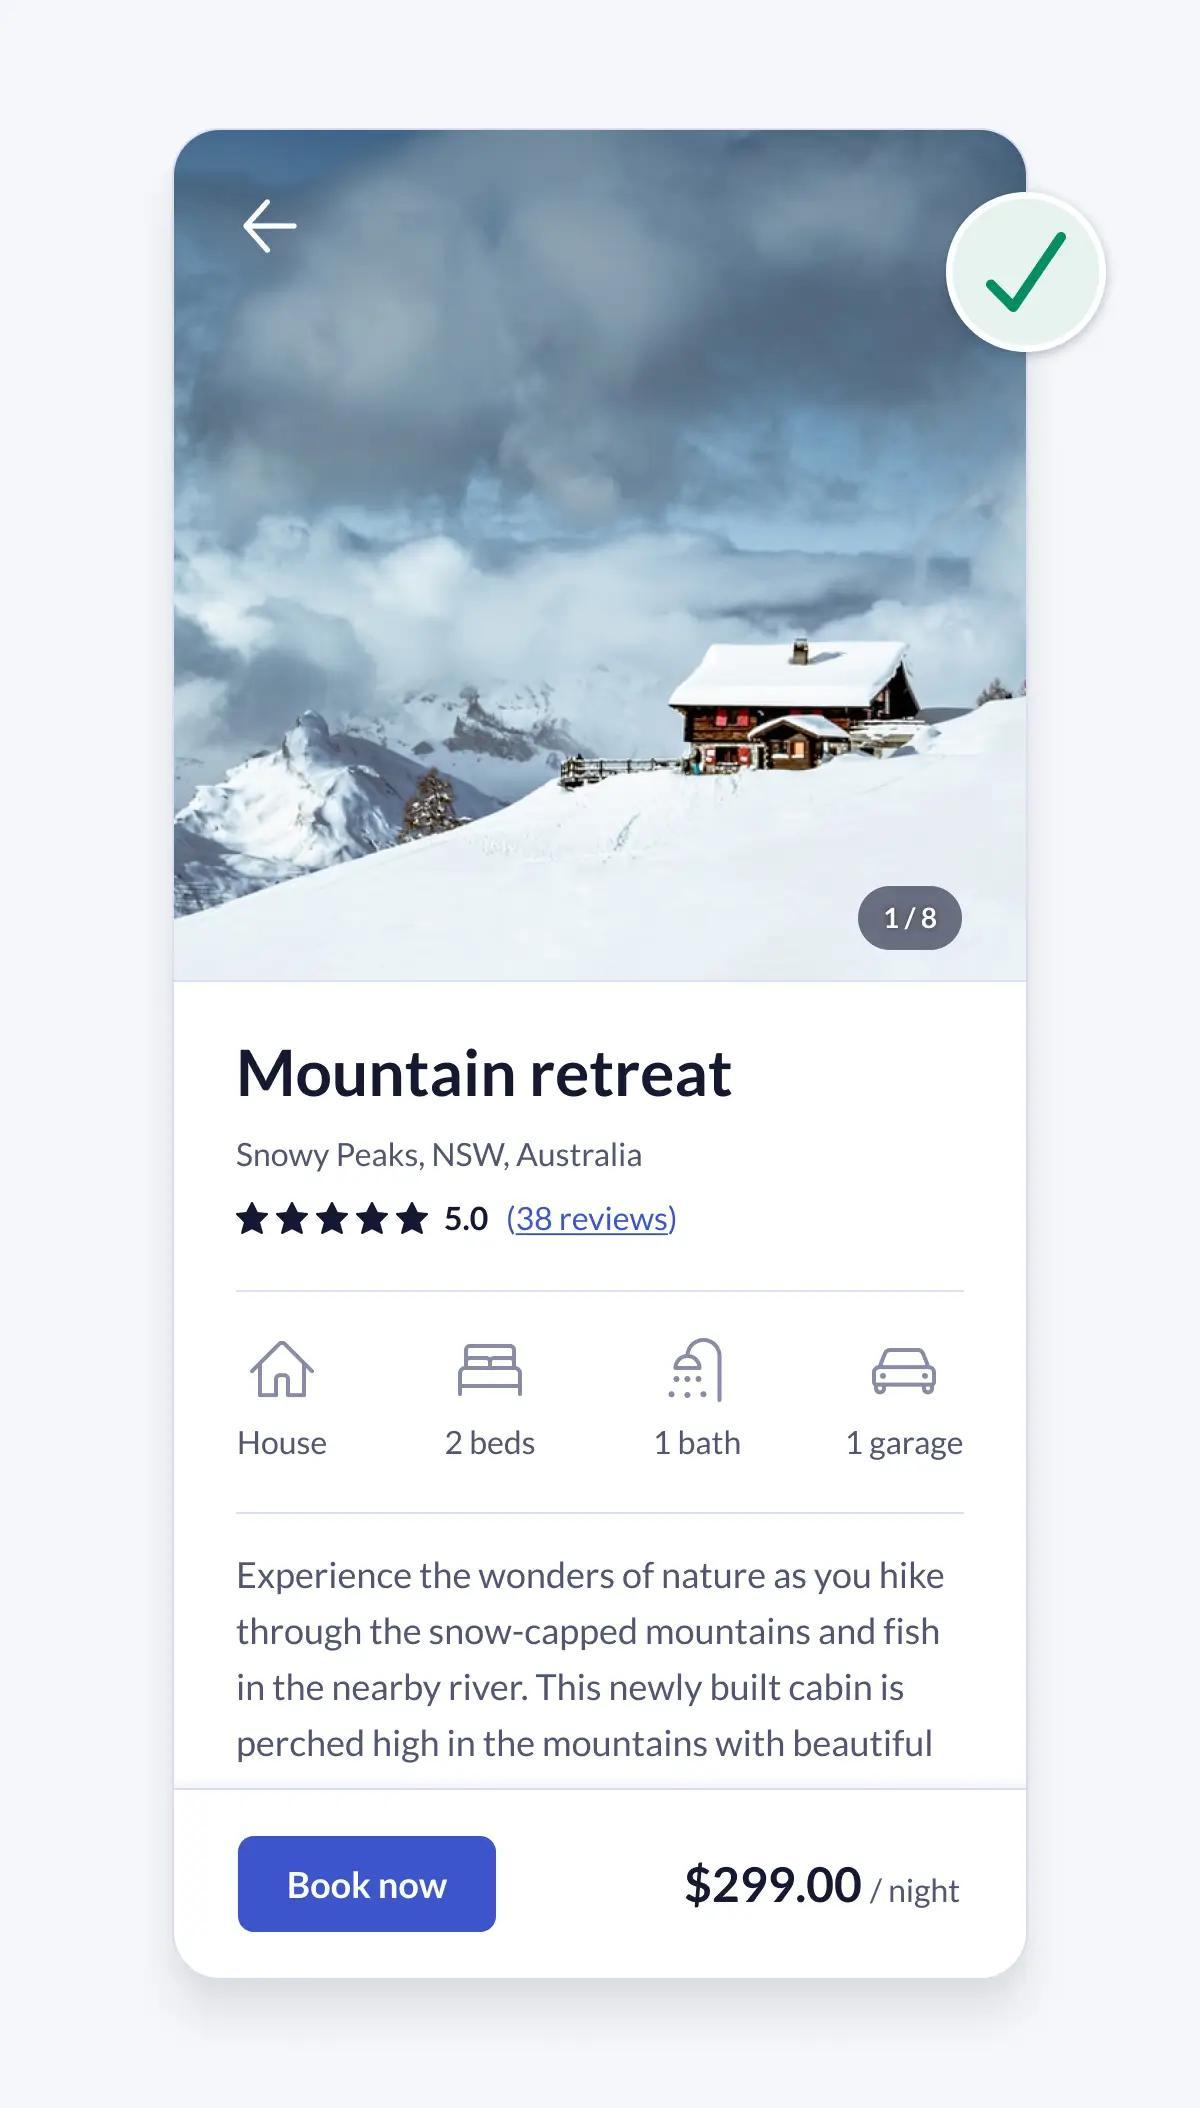button: (234, 1839, 499, 1933)
icon: (947, 191, 1112, 361), (237, 1336, 326, 1413), (659, 1332, 735, 1413), (858, 1332, 939, 1406), (455, 1336, 528, 1409)
label: (841, 1428, 966, 1470), (234, 1422, 330, 1470), (436, 1426, 554, 1459), (646, 1430, 751, 1459)
